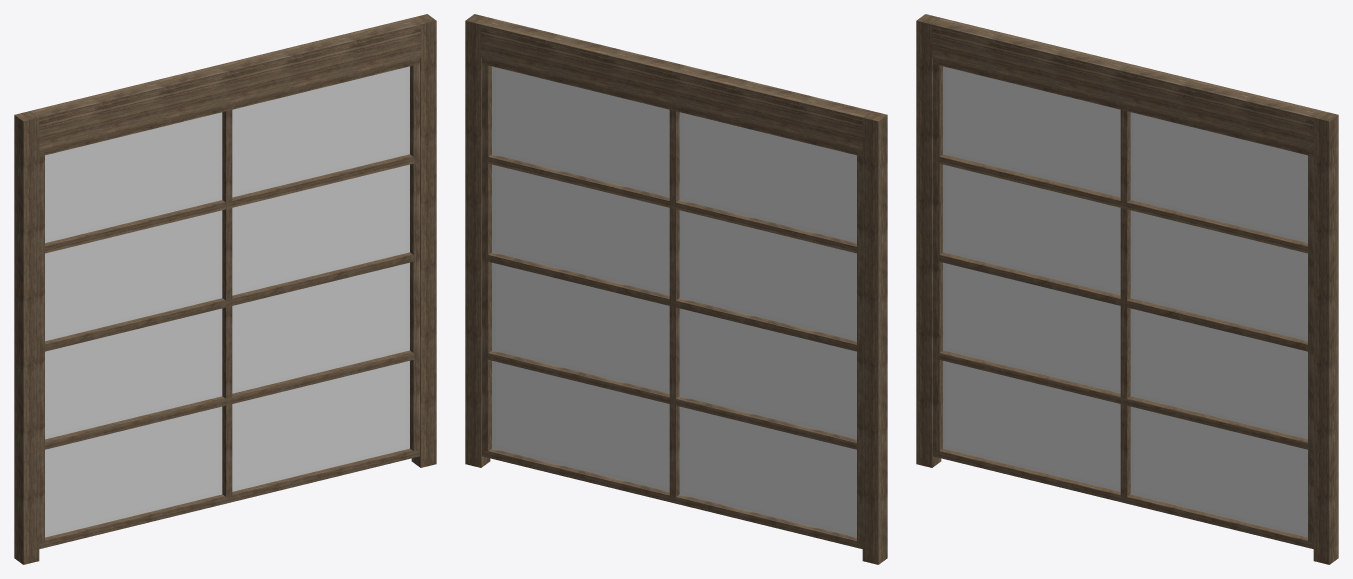
The model's file is es-polycaB_h2000_brownebony.fbx.
3 views of the same model, side by side, from view 1: azimuth 30°, elevation 25°; view 2: azimuth 150°, elevation 25°; view 3: azimuth 330°, elevation 25° (orthographic).
Visible parts, largest first — view 1: es-polycaB_h2000_brownebony; view 2: es-polycaB_h2000_brownebony; view 3: es-polycaB_h2000_brownebony.
Part boxes in pixels (x1,y1,x2,y2): es-polycaB_h2000_brownebony: (14, 14, 436, 564); es-polycaB_h2000_brownebony: (465, 14, 887, 564); es-polycaB_h2000_brownebony: (916, 14, 1338, 564).
Size of the model in its own units: 195 by 200 by 7.5.
2 materials, 1 textured.
